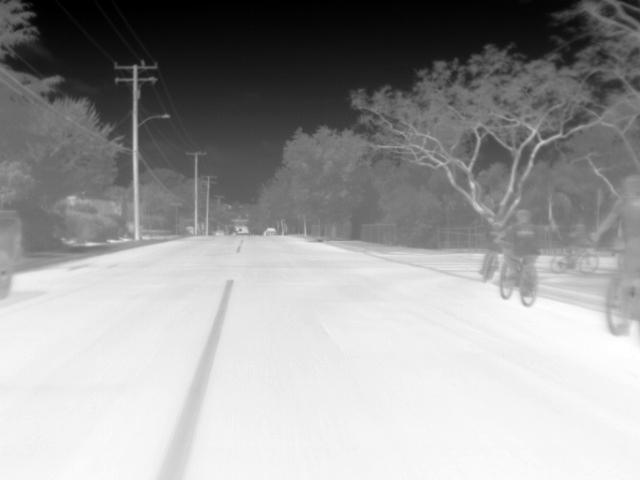car: (1, 206, 24, 301), (262, 225, 278, 237)
person: (588, 172, 638, 310), (494, 208, 538, 291)
